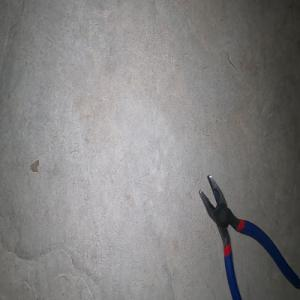Pliers: (198, 174, 300, 300)
